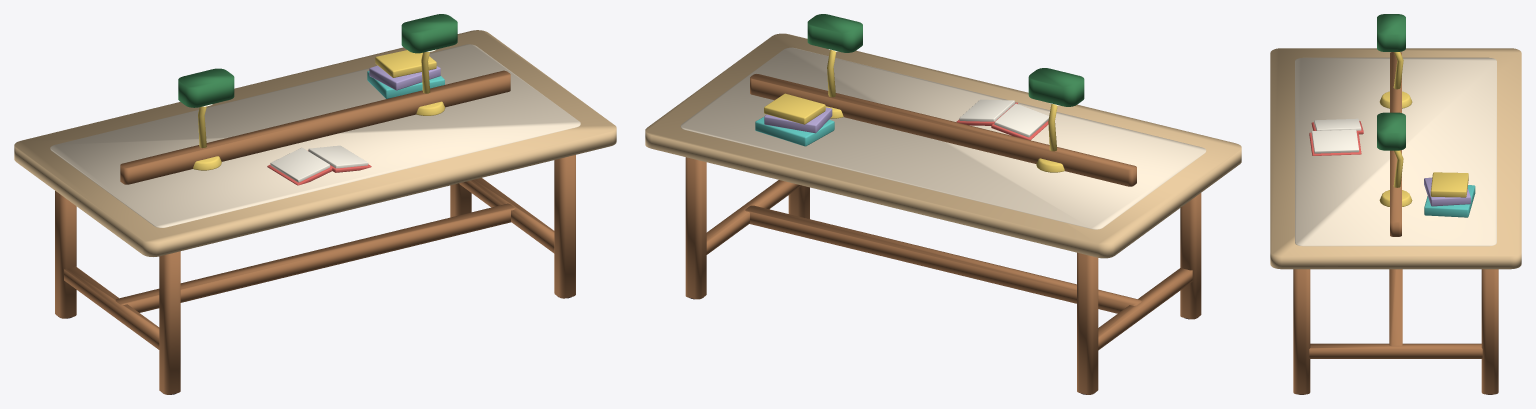
The model's file is reading-table.glb.
3 views of the same model, side by side, from view 1: azimuth 30°, elevation 25°; view 2: azimuth 150°, elevation 25°; view 3: azimuth 270°, elevation 25° (orthographic). The views are drawn at different scales.
Visible parts, largest first — view 1: LibReadingTable_CreamInlay, LibReadingTable_WoodFrame, LibReadingTable_WoodLightTop, LibReadingTable_DeepGreenShades, LibReadingTable_ButterLampsAndBook, LibReadingTable_CreamPages, LibReadingTable_LavenderBook, LibReadingTable_TurquoiseBook; view 2: LibReadingTable_CreamInlay, LibReadingTable_WoodFrame, LibReadingTable_WoodLightTop, LibReadingTable_DeepGreenShades, LibReadingTable_ButterLampsAndBook, LibReadingTable_CreamPages, LibReadingTable_TurquoiseBook, LibReadingTable_LavenderBook; view 3: LibReadingTable_CreamInlay, LibReadingTable_WoodLightTop, LibReadingTable_WoodFrame, LibReadingTable_DeepGreenShades, LibReadingTable_ButterLampsAndBook, LibReadingTable_CreamPages, LibReadingTable_TurquoiseBook, LibReadingTable_LavenderBook, LibReadingTable_CoralOpenBook.
Part boxes in pixels (x1,y1,x2,y2): LibReadingTable_CreamInlay: (50,44,580,227); LibReadingTable_WoodFrame: (55,70,575,394); LibReadingTable_WoodLightTop: (14,30,616,256); LibReadingTable_DeepGreenShades: (178,14,457,107); LibReadingTable_ButterLampsAndBook: (193,50,445,170); LibReadingTable_CreamPages: (270,145,368,182); LibReadingTable_LavenderBook: (369,65,440,90); LibReadingTable_TurquoiseBook: (367,71,444,98); LibReadingTable_CreamInlay: (680,47,1206,229); LibReadingTable_WoodFrame: (685,74,1201,394); LibReadingTable_WoodLightTop: (645,33,1241,258); LibReadingTable_DeepGreenShades: (807,14,1084,106); LibReadingTable_ButterLampsAndBook: (764,49,1064,172); LibReadingTable_CreamPages: (959,99,1049,137); LibReadingTable_TurquoiseBook: (755,116,834,146); LibReadingTable_LavenderBook: (764,107,832,133); LibReadingTable_CreamInlay: (1295,57,1496,246); LibReadingTable_WoodLightTop: (1270,48,1521,269); LibReadingTable_WoodFrame: (1293,52,1498,394); LibReadingTable_DeepGreenShades: (1377,14,1405,150); LibReadingTable_ButterLampsAndBook: (1379,52,1468,206); LibReadingTable_CreamPages: (1311,118,1361,153); LibReadingTable_TurquoiseBook: (1424,185,1475,217); LibReadingTable_LavenderBook: (1424,177,1470,206); LibReadingTable_CoralOpenBook: (1309,121,1363,155).
Size of the model in its own units: 2.2 by 1.14 by 1.12.
